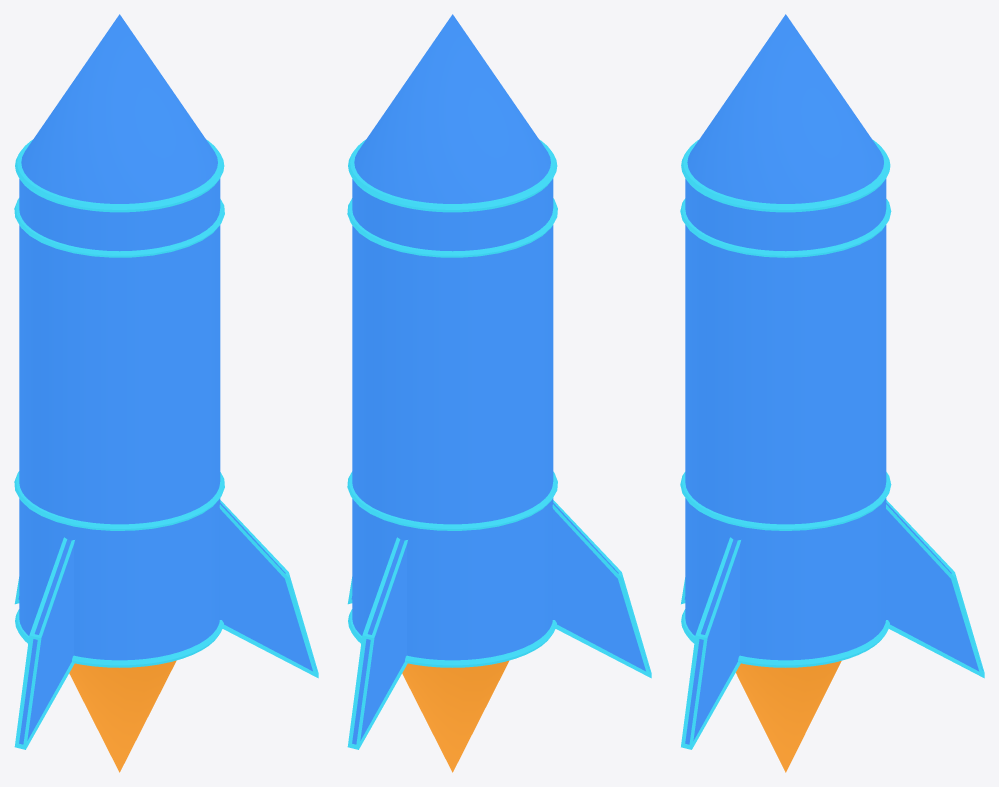
Rendered from rocket.glb.
3 views of the same model, side by side, from view 1: azimuth 30°, elevation 25°; view 2: azimuth 150°, elevation 25°; view 3: azimuth 270°, elevation 25° (orthographic).
Visible parts, largest first — view 1: body; view 2: body; view 3: body.
Boxes of the visible parts, left/top/right/bottom form: body: left=14, top=14, right=318, bottom=772; body: left=347, top=14, right=651, bottom=772; body: left=680, top=14, right=984, bottom=772.
Size of the model in its own units: 0.4191 by 1 by 0.3635.
